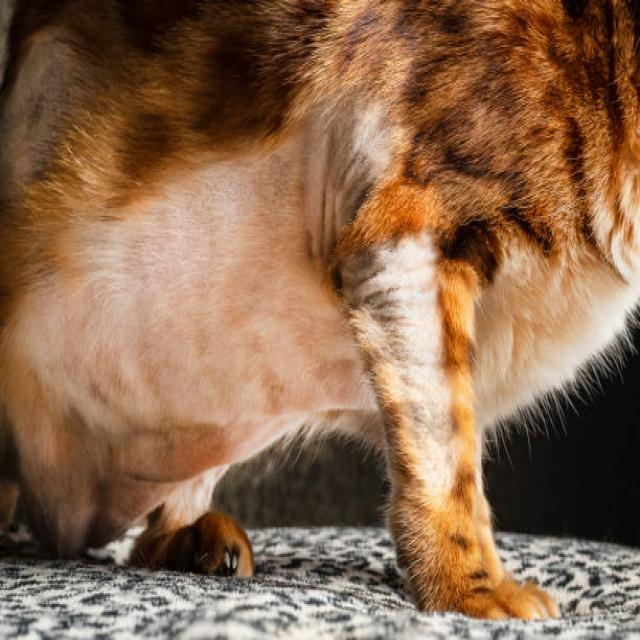cat-hairloss: (55, 211, 321, 427), (205, 146, 307, 201)
